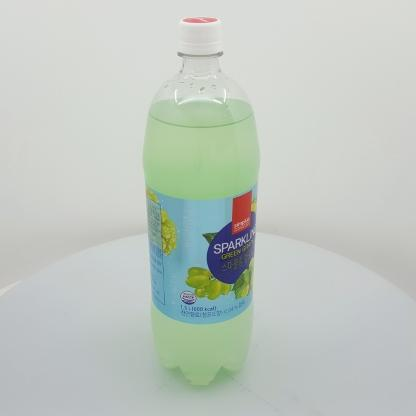---------------: (142, 17, 260, 385)
